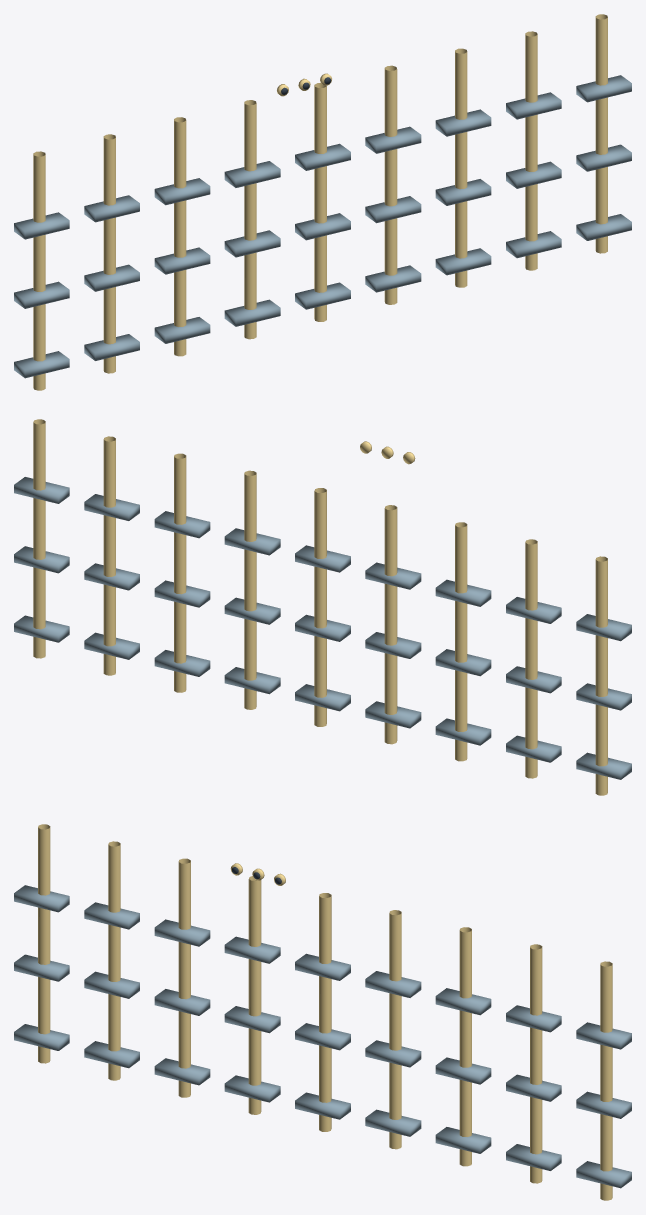
The model's file is 16_L93_LaboratoryUtilityBridge.fbx.
3 views of the same model, one above another, from view 1: azimuth 30°, elevation 25°; view 2: azimuth 150°, elevation 25°; view 3: azimuth 330°, elevation 25° (orthographic).
Visible parts, largest first — view 1: L92_LaboratoryUtilityBridge_Part_0000, L92_LaboratoryUtilityBridge_Part_0001, L92_LaboratoryUtilityBridge_Part_0002; view 2: L92_LaboratoryUtilityBridge_Part_0000, L92_LaboratoryUtilityBridge_Part_0001, L92_LaboratoryUtilityBridge_Part_0002; view 3: L92_LaboratoryUtilityBridge_Part_0000, L92_LaboratoryUtilityBridge_Part_0001, L92_LaboratoryUtilityBridge_Part_0002.
Boxes of the visible parts, bbox=[...] form: L92_LaboratoryUtilityBridge_Part_0000: bbox=[33, 14, 607, 390]; L92_LaboratoryUtilityBridge_Part_0001: bbox=[14, 126, 491, 378]; L92_LaboratoryUtilityBridge_Part_0002: bbox=[435, 75, 631, 258]; L92_LaboratoryUtilityBridge_Part_0000: bbox=[33, 419, 607, 795]; L92_LaboratoryUtilityBridge_Part_0001: bbox=[154, 528, 631, 779]; L92_LaboratoryUtilityBridge_Part_0002: bbox=[14, 477, 210, 659]; L92_LaboratoryUtilityBridge_Part_0000: bbox=[38, 824, 612, 1200]; L92_LaboratoryUtilityBridge_Part_0001: bbox=[14, 885, 491, 1153]; L92_LaboratoryUtilityBridge_Part_0002: bbox=[435, 988, 631, 1188].
Bounding box in the file's own units: 7.6 × 3.22 × 0.662.
